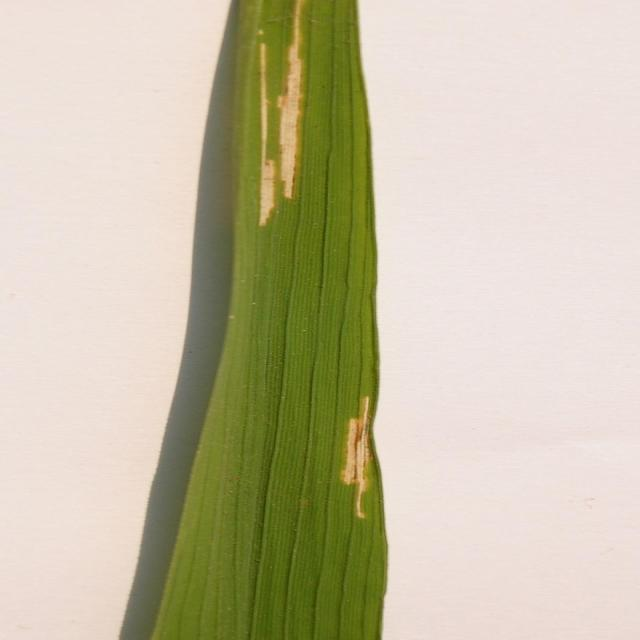Bacterial_Leaf_Blight: (236, 2, 337, 262), (324, 317, 396, 572)
